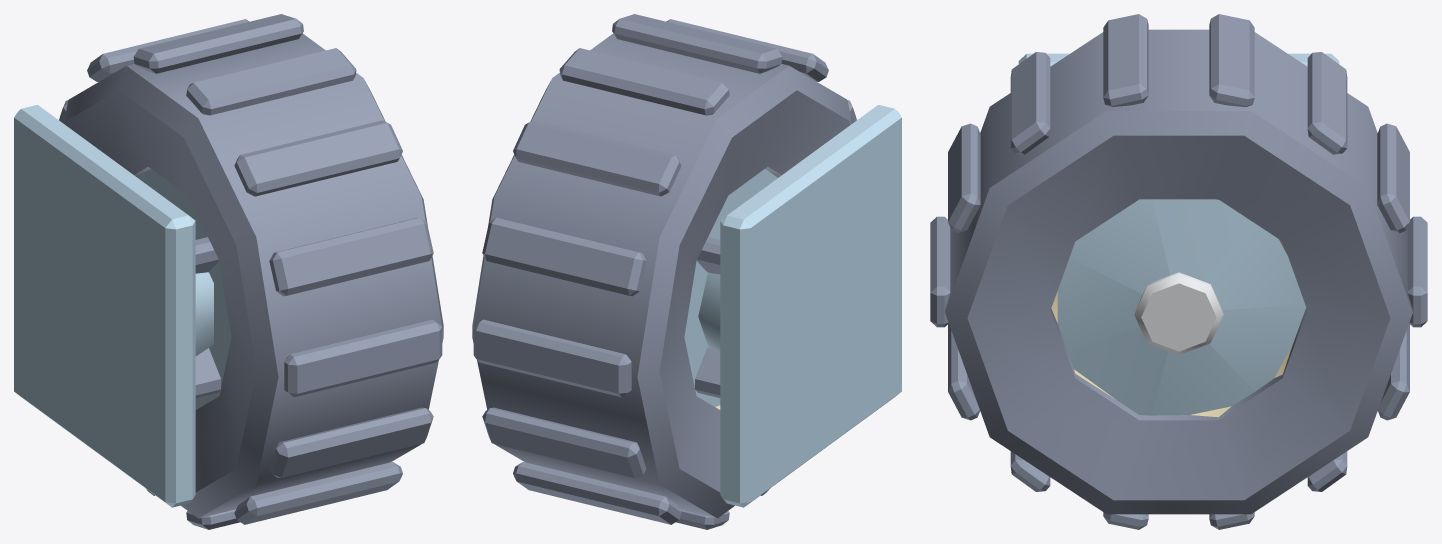
Rendered from R4M_WheelM_Side_Offroad_LOD1.glb.
3 views of the same model, side by side, from view 1: azimuth 30°, elevation 25°; view 2: azimuth 150°, elevation 25°; view 3: azimuth 270°, elevation 25° (orthographic).
Parts seen in each view (by area): view 1: R4M_WheelM_Side_Offroad_LOD1; view 2: R4M_WheelM_Side_Offroad_LOD1; view 3: R4M_WheelM_Side_Offroad_LOD1.
Part boxes in pixels (x1,y1,x2,y2): R4M_WheelM_Side_Offroad_LOD1: (14, 14, 443, 529); R4M_WheelM_Side_Offroad_LOD1: (472, 14, 901, 529); R4M_WheelM_Side_Offroad_LOD1: (930, 14, 1427, 529).
Bounding box in the file's own units: 0.452 × 0.7674 × 0.776.
